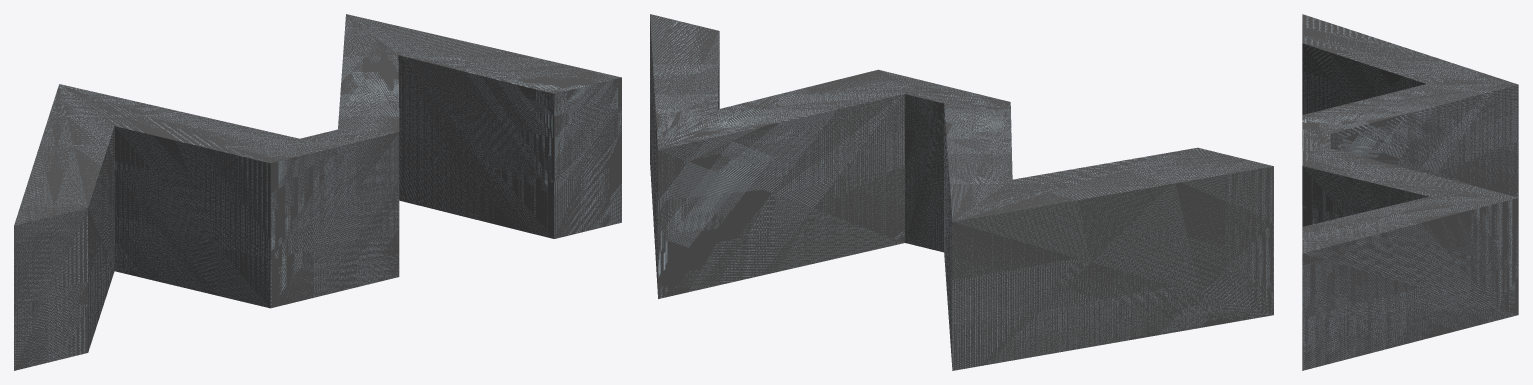
Rendered from tileableWall.fbx.
3 renders of one model, left to right at view 1: azimuth 30°, elevation 25°; view 2: azimuth 150°, elevation 25°; view 3: azimuth 270°, elevation 25°, orthographic. The views are drawn at different scales.
Parts seen in each view (by area): view 1: Model; view 2: Model; view 3: Model.
Boxes of the visible parts, x1,y1,x2,y2 form: Model: (14,14,621,370); Model: (650,14,1273,370); Model: (1302,14,1518,370).
Bounding box in the file's own units: 2.02 × 0.46 × 0.77.
